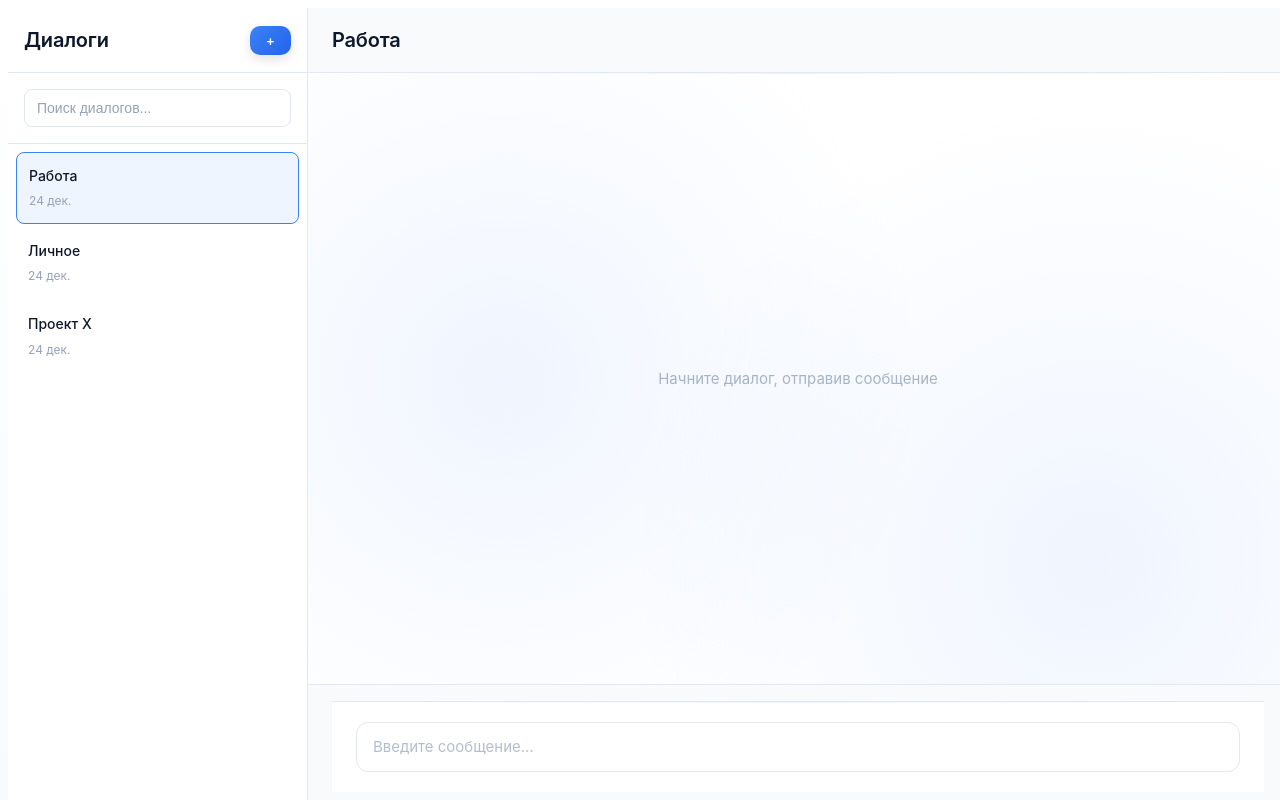
ChatPage тесты › Тест 4: Поиск диалогов › должны показываться все диалоги после очистки поиска
Expected: the text "Работа" is shown, [29,167,77,184]
Type "Работа" into the search field named "поиск по диалогам". click: x=158, y=108
box: [24,89,291,127]
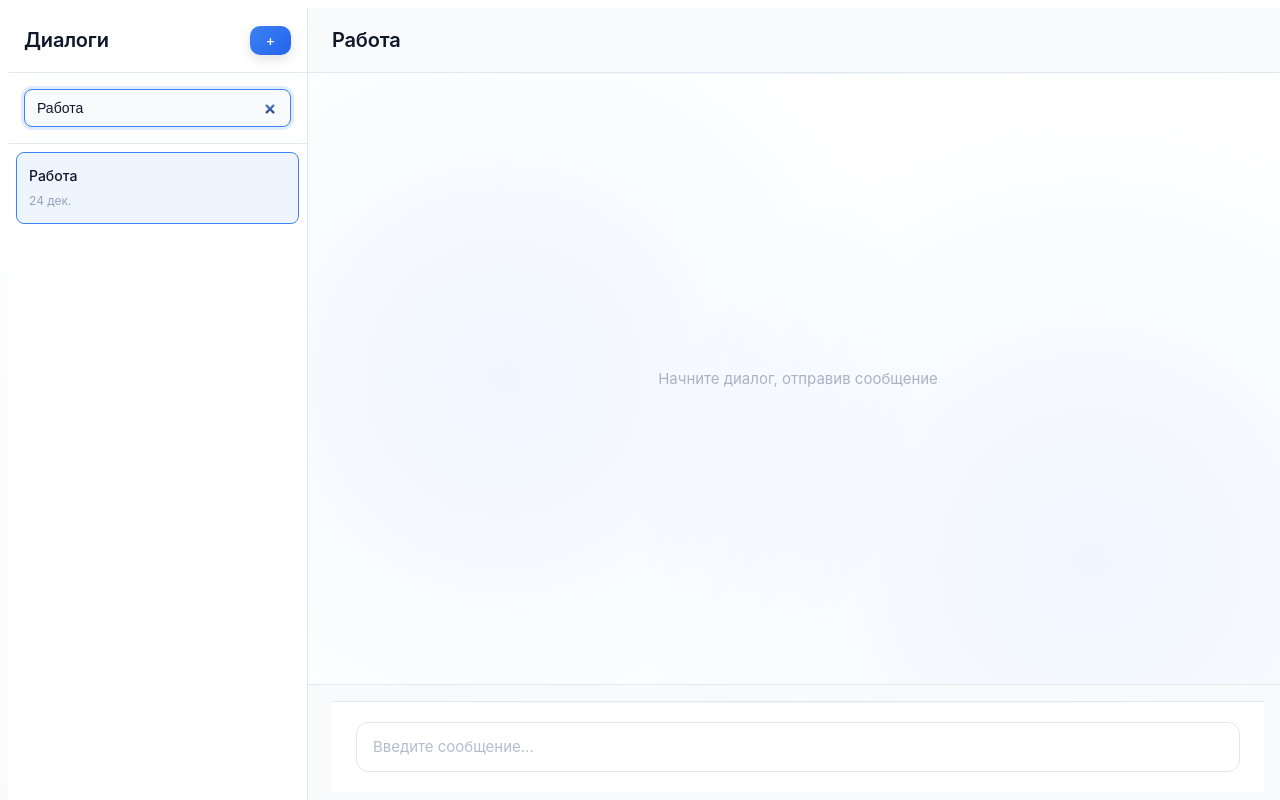
Expected: the button "Личное" is gone
Clear the search field named "поиск по диалогам". click: x=158, y=108
box: [24,89,291,127]
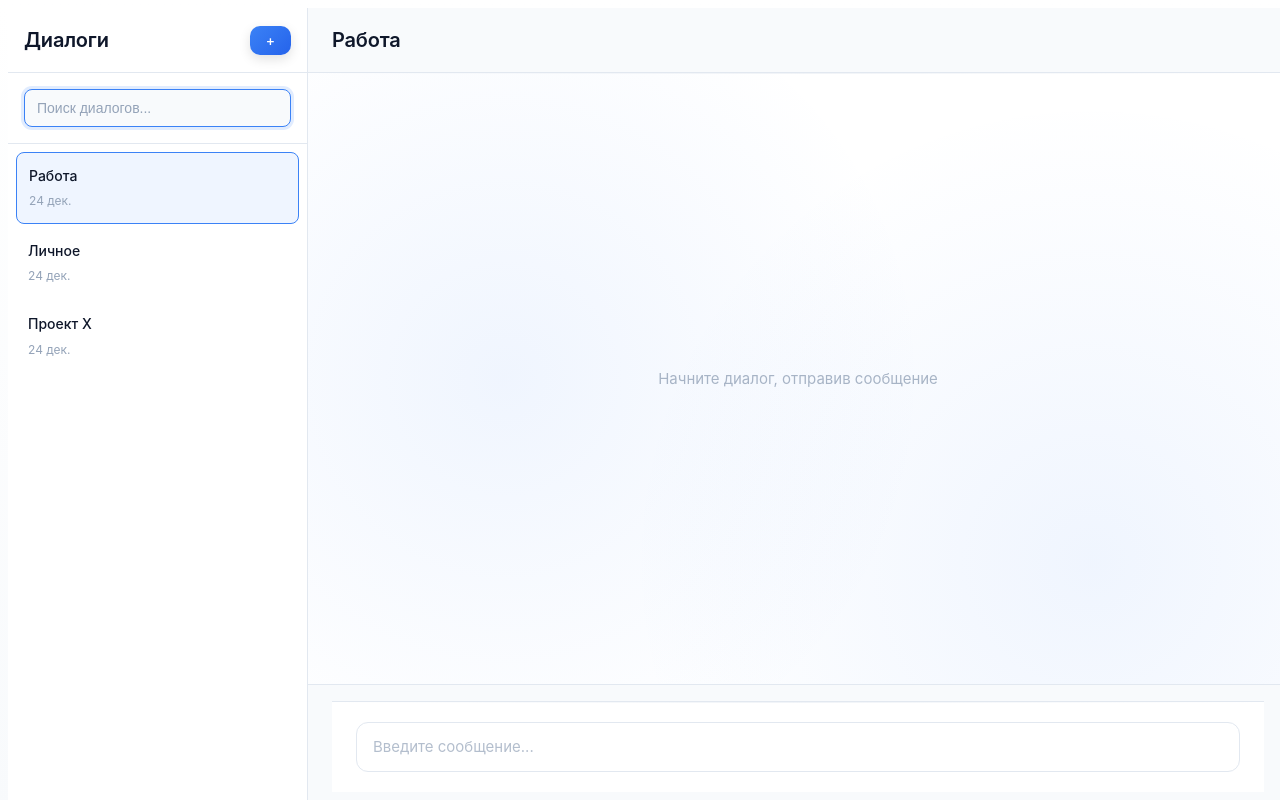
Expected: the text "Личное" is shown, [28,242,80,259]
Expected: the text "Проект X" is shown, [28,315,92,332]
